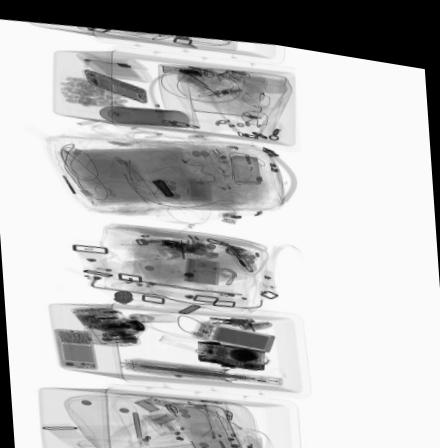Lighter: (242, 426, 255, 446)
